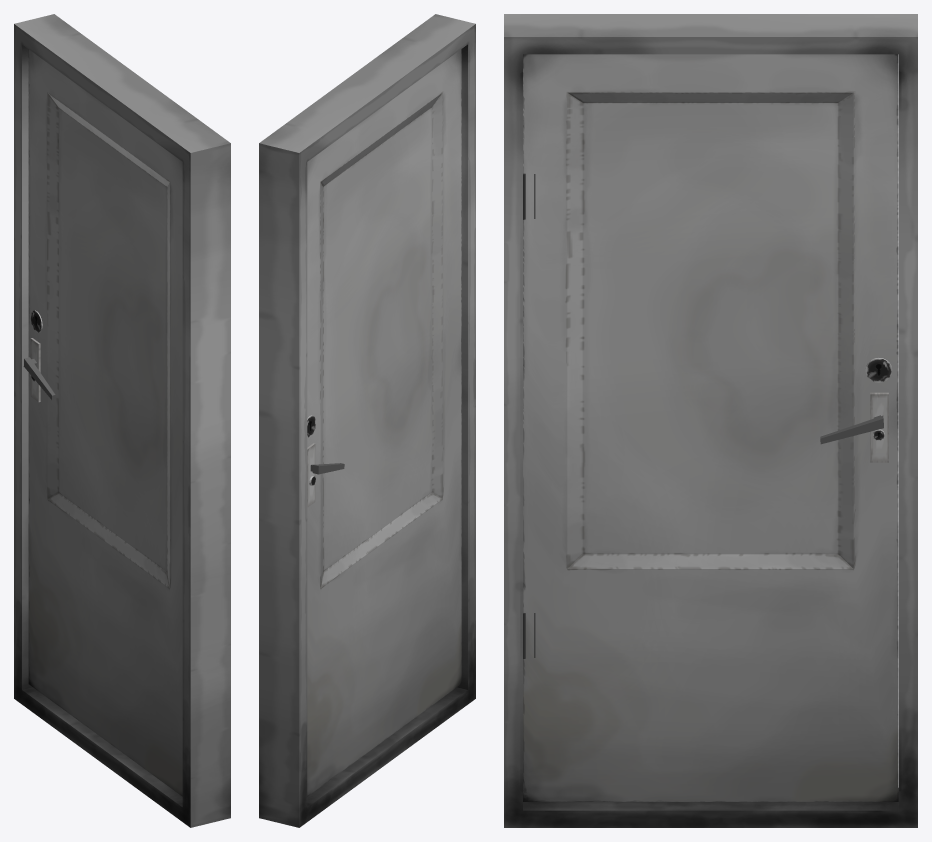
Rendered from door.fbx.
The picture shows the model from 3 angles, left to right: view 1: azimuth 30°, elevation 25°; view 2: azimuth 150°, elevation 25°; view 3: azimuth 270°, elevation 25°; orthographic projection. The views are drawn at different scales.
Parts seen in each view (by area): view 1: Cube, rama, Cube.001, Cube.002; view 2: Cube, rama, Cube.001; view 3: Cube, rama, Cube.001.
Part boxes in pixels (x1,y1,x2,y2): Cube: (28, 49, 182, 796); rama: (14, 14, 230, 827); Cube.001: (30, 338, 40, 402); Cube.002: (23, 357, 55, 400); Cube: (307, 49, 461, 796); rama: (259, 14, 475, 827); Cube.001: (307, 443, 315, 507); Cube: (523, 54, 898, 801); rama: (504, 14, 917, 827); Cube.001: (870, 392, 888, 462).
Bounding box in the file's own units: 36.63 × 464 × 220.
